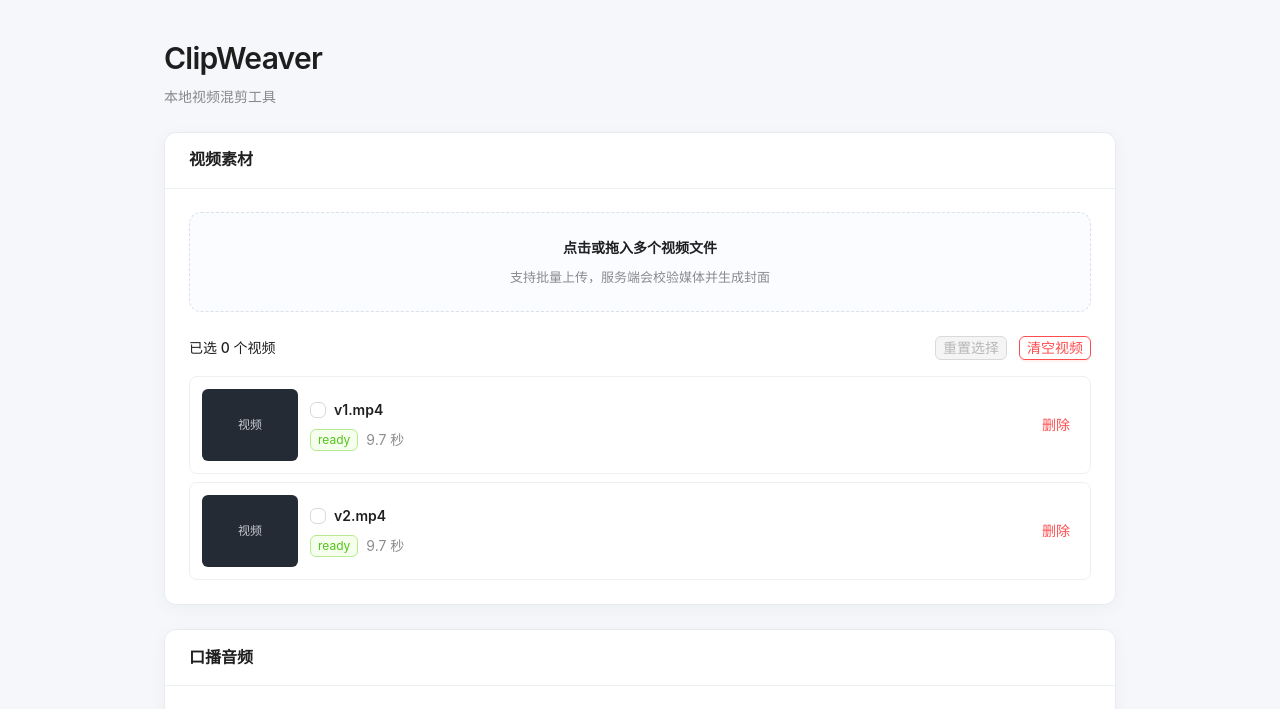
Test: clear video treats a missing asset as deleted and continues with the next video
This screenshot has width=1280, height=709.
expect the button with aria-label "删除视频 v2.mp4" is shown: met, box [1034,519,1078,543]
Click the checkbox named "选择视频 v1.mp4". click: (318, 410)
box: [310,399,326,421]
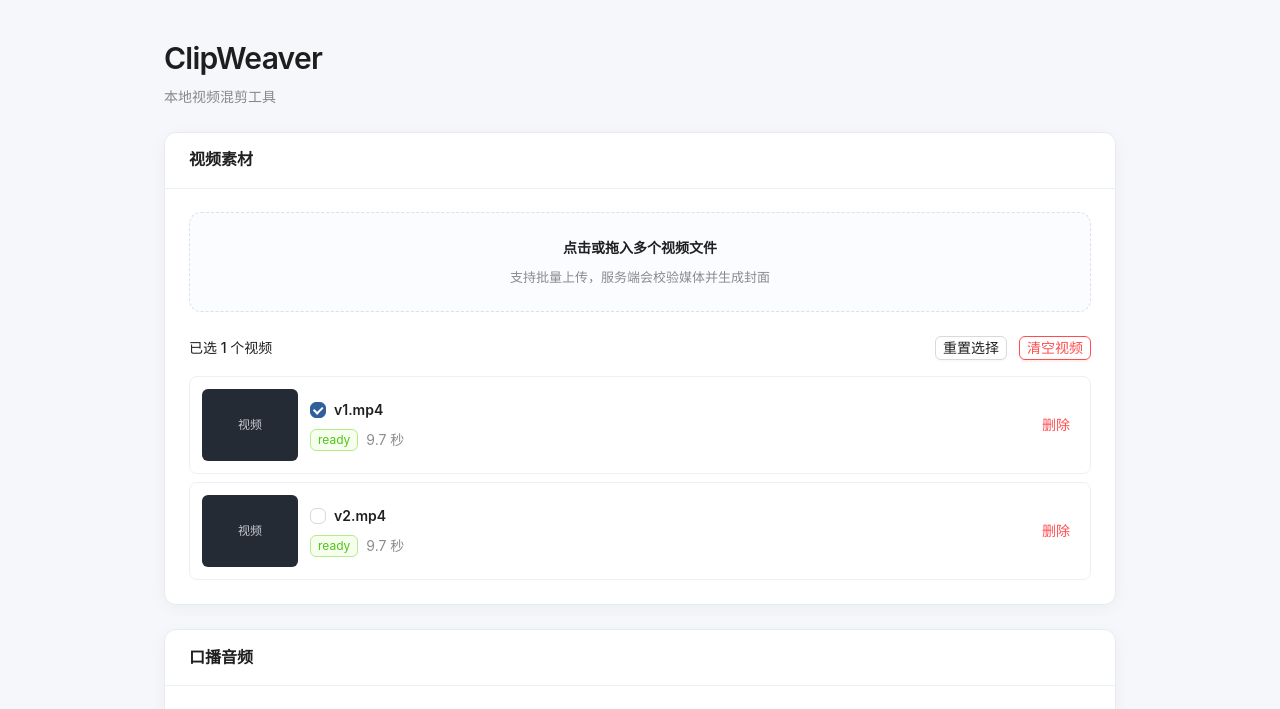
Click the button "清空视频". click: (1055, 348)
box: [1019,336,1091,360]
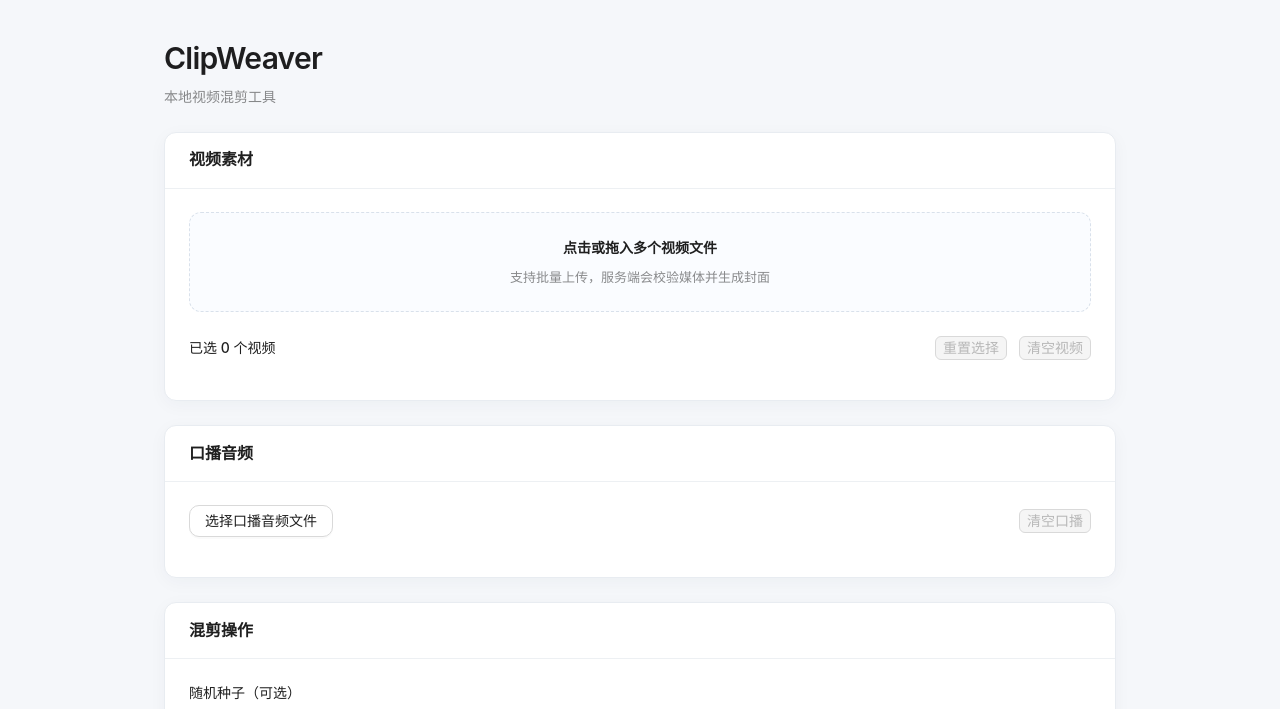
expect no list items are shown: met
expect the text "已选 0 个视频" is shown: met, box [189,337,276,359]
